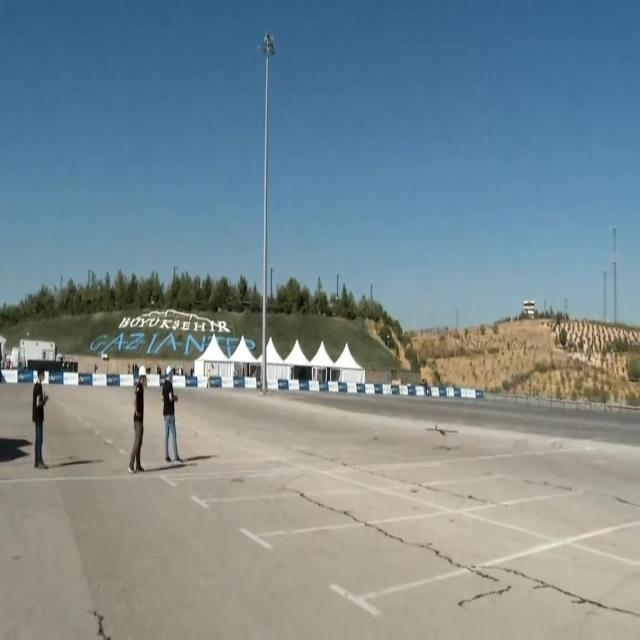iha: (424, 421, 459, 437)
